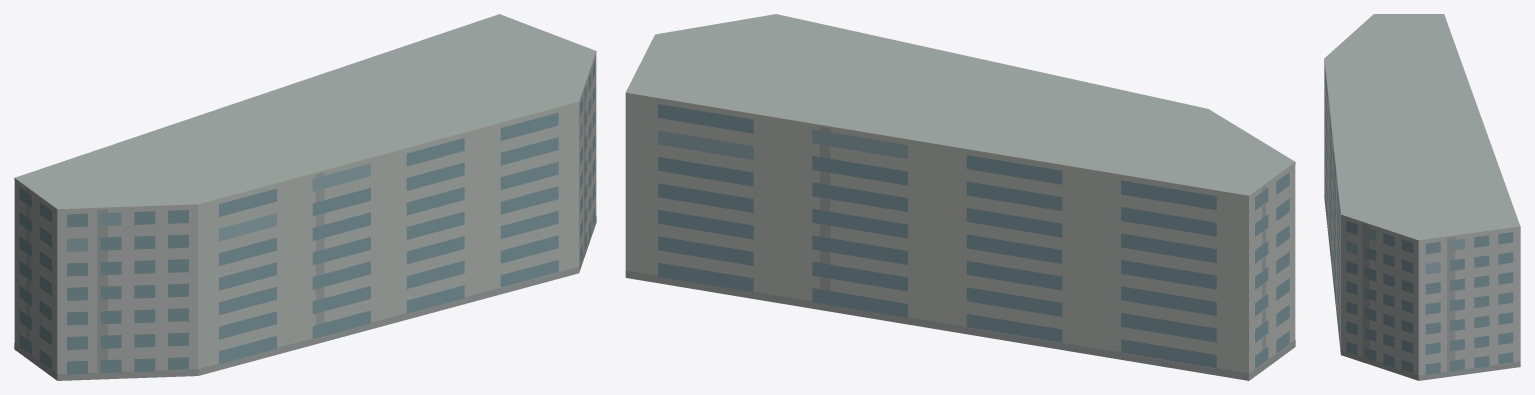
File: residential-05a40207-310c-4afd-a16f-fdbfd2467746.glb
The picture shows the model from 3 angles, left to right: view 1: azimuth 30°, elevation 25°; view 2: azimuth 150°, elevation 25°; view 3: azimuth 270°, elevation 25°; orthographic projection. The views are drawn at different scales.
Visible parts, largest first — view 1: residential-05a40207-310c-4afd-a16f-fdbfd2467746.tmp; view 2: residential-05a40207-310c-4afd-a16f-fdbfd2467746.tmp; view 3: residential-05a40207-310c-4afd-a16f-fdbfd2467746.tmp.
Part boxes in pixels (<box>): residential-05a40207-310c-4afd-a16f-fdbfd2467746.tmp: <box>14,14,596,380</box>; residential-05a40207-310c-4afd-a16f-fdbfd2467746.tmp: <box>625,14,1295,380</box>; residential-05a40207-310c-4afd-a16f-fdbfd2467746.tmp: <box>1324,14,1520,380</box>.
Size of the model in its own units: 73.72 by 21.35 by 26.98.
